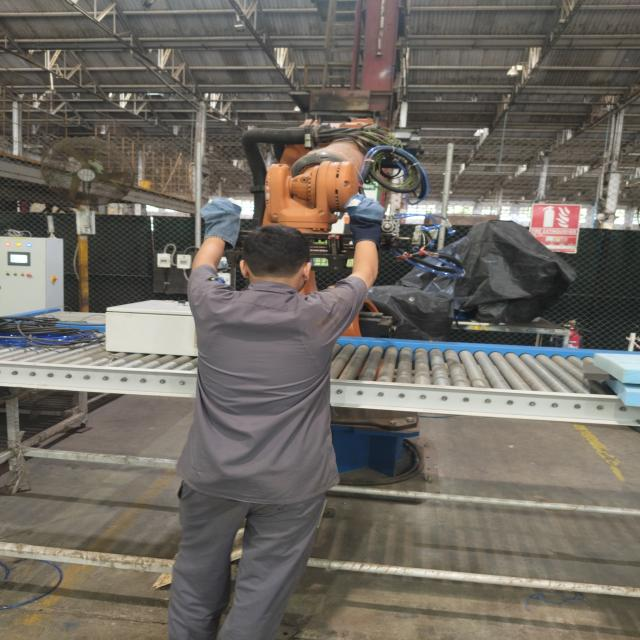Gloves-Detection: (342, 200, 383, 243), (197, 202, 234, 244)
